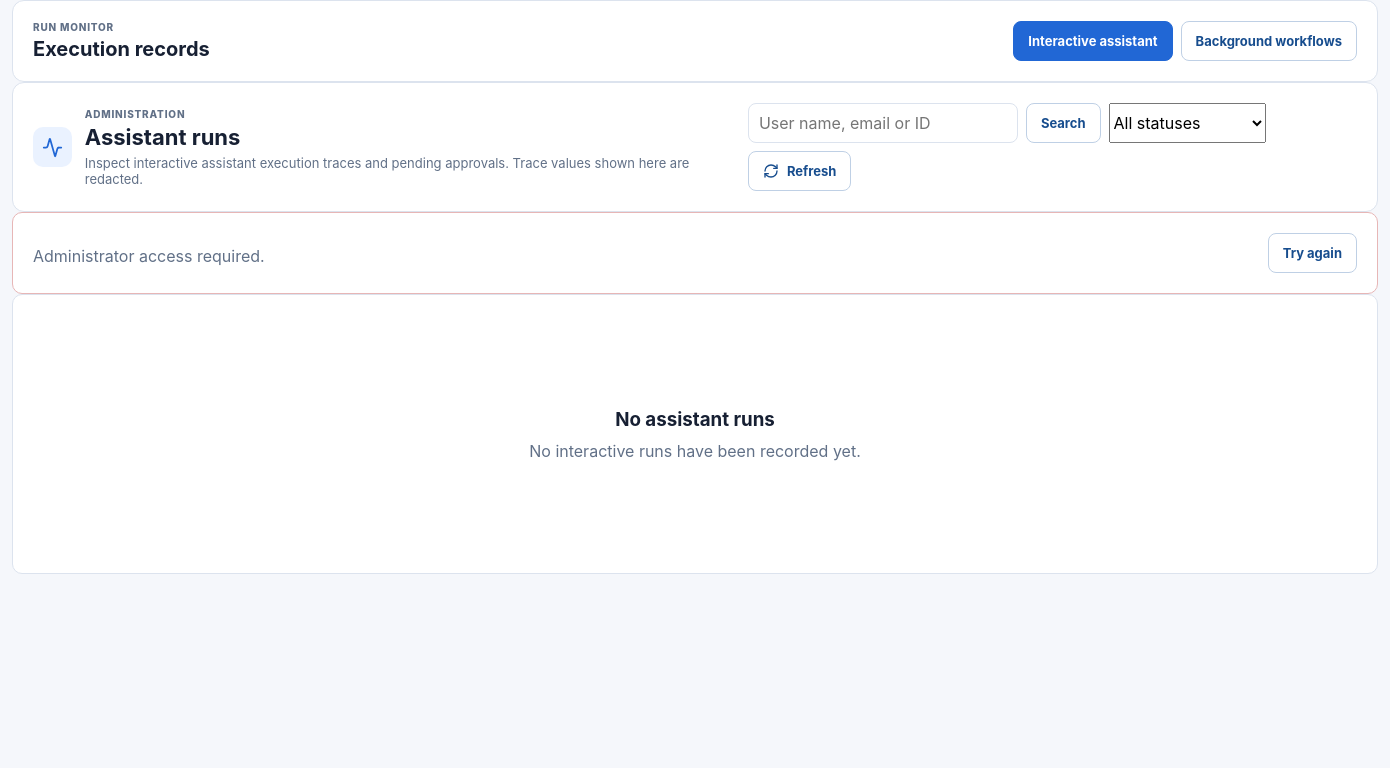
Test: AdminAssistantRunsPage › shows an error and retry action when loading fails
Expected: the message "Administrator access required. Try again" is shown, [12,212,1378,294]
Click the button "Try again": click(1312, 253) [1268,233,1357,273]
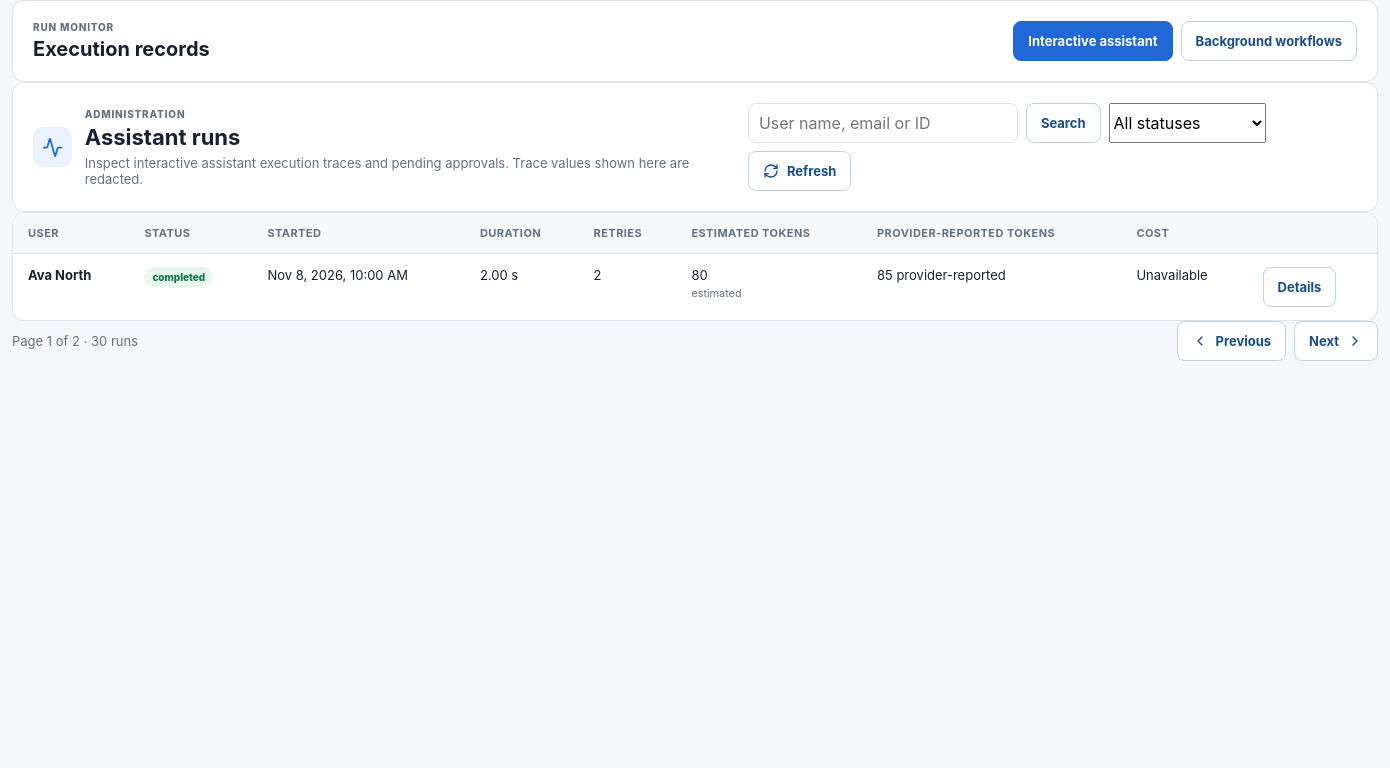
Now the table named "Assistant runs" is shown, box [13,213,1377,320]
